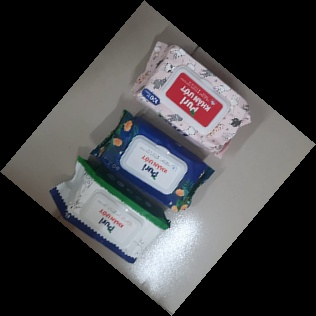Puri Trang: (48, 155, 172, 264)
Puri Xanh: (87, 108, 216, 214)
Puri hong: (128, 40, 256, 158)
